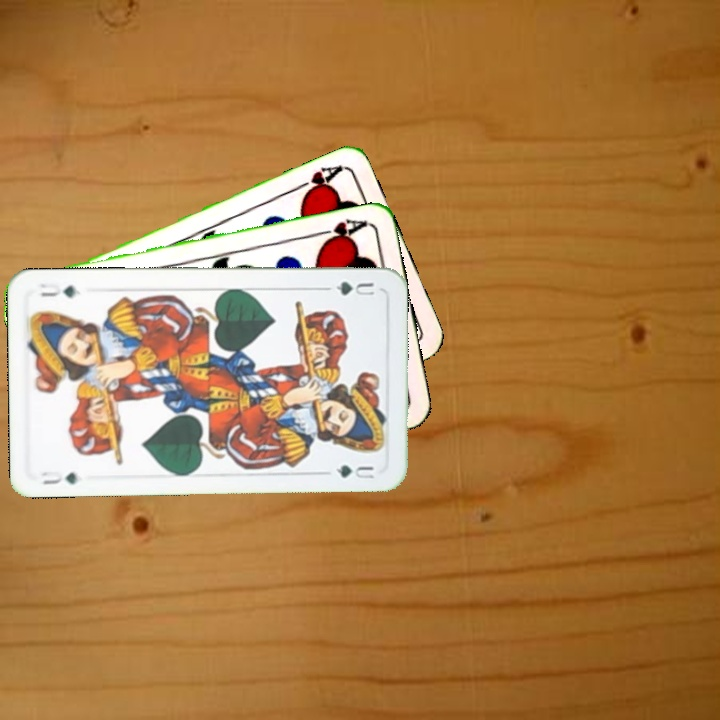GU: (322, 277, 377, 298), (37, 467, 81, 487)
HA: (290, 161, 346, 201), (312, 214, 371, 247)
